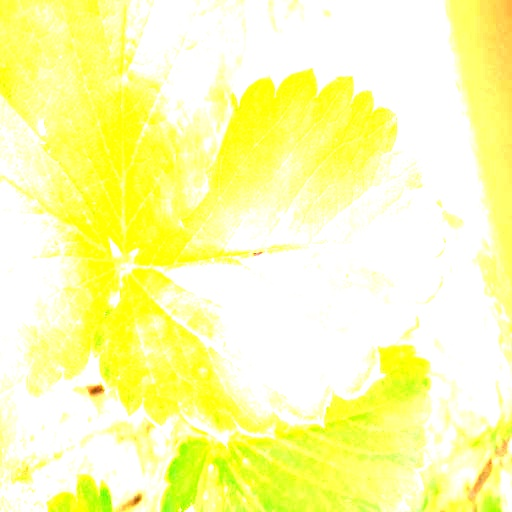Leaf Spot: (92, 65, 446, 441), (0, 97, 122, 404)
